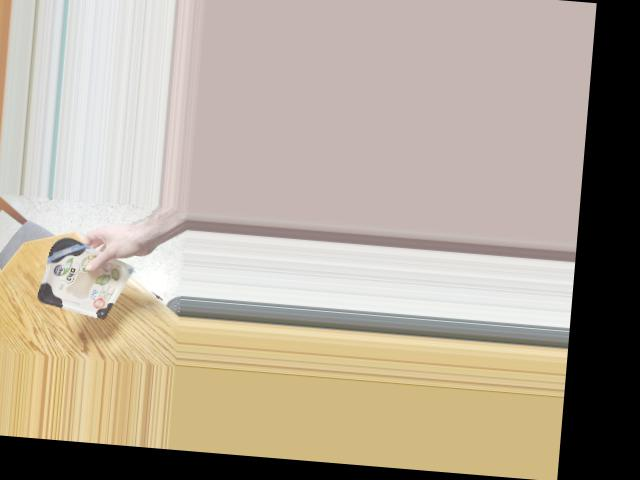cheese: (38, 238, 120, 318)
